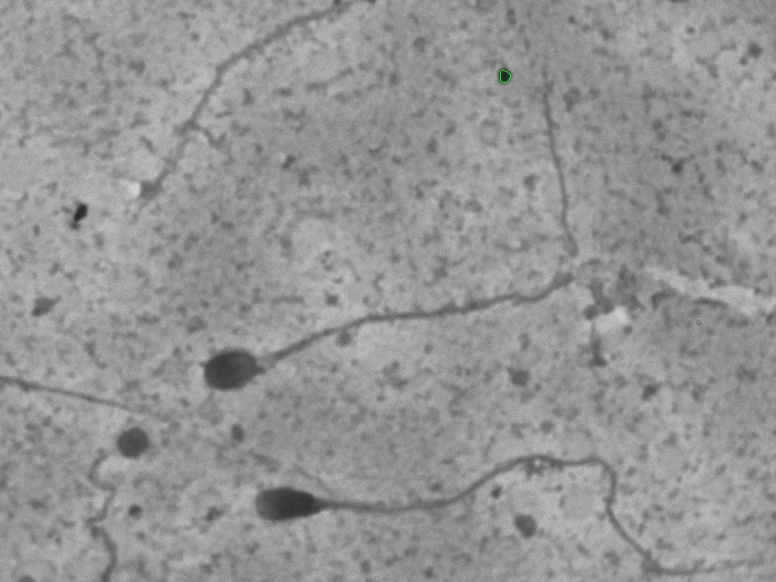Normal: (193, 61, 601, 411), (236, 456, 736, 577)
